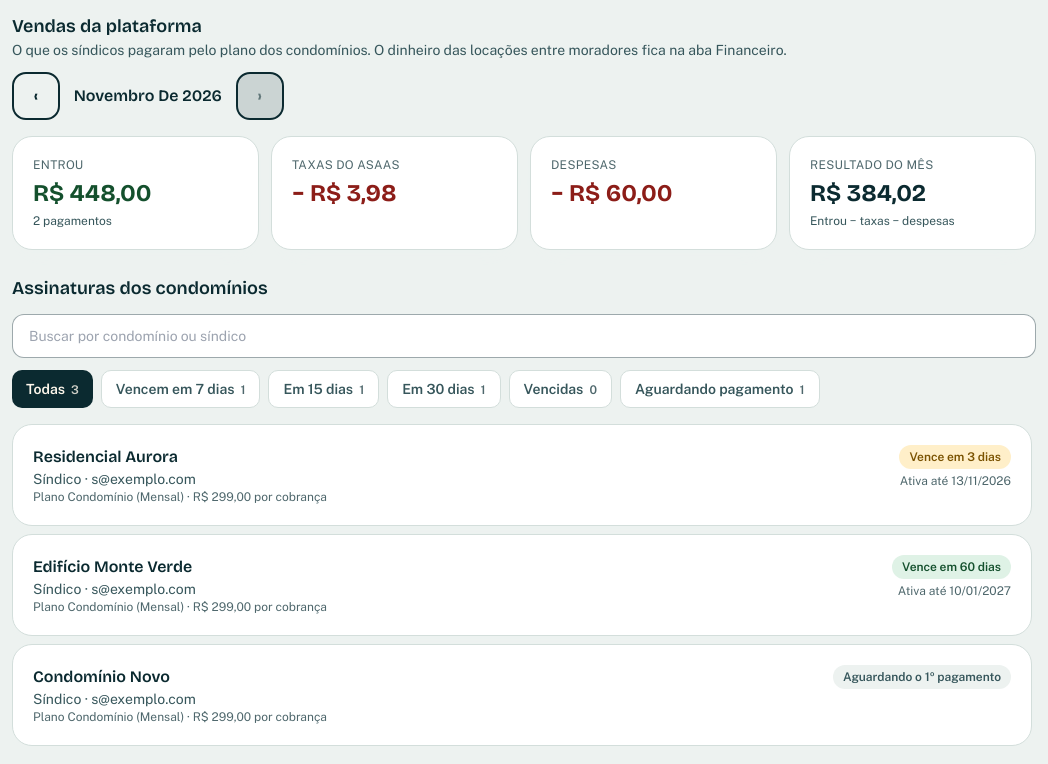
Test case: AbaPlataforma: assinaturas › os filtros mostram a contagem e escondem o que não combina
Expected: the element named "Lista de assinaturas" is shown, [12, 424, 1036, 746]
Click the button "Vencem em 7 dias1" at x=181, y=389, box [101, 370, 260, 408]
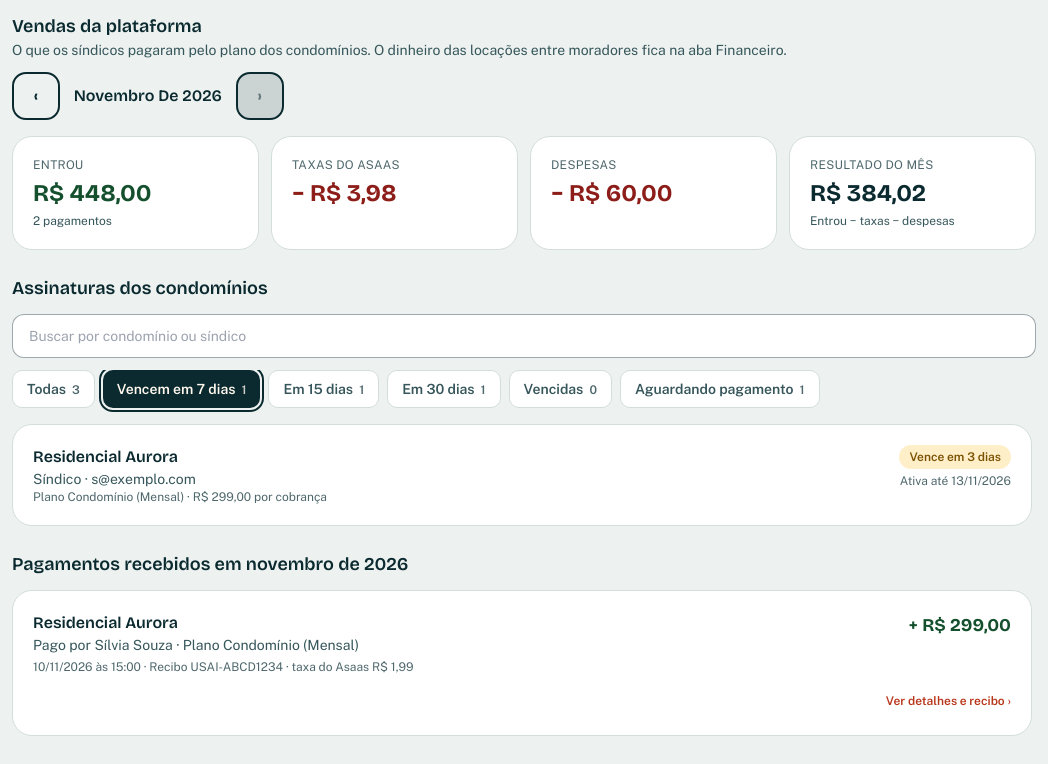
Expected: the text "Residencial Aurora" in the row of "Vence em 3 dias" is shown, [33, 447, 178, 466]
Expected: the text "Edifício Monte Verde" is gone
Expected: the text "Condomínio Novo" is gone
Click the button "Aguardando pagamento1" at x=720, y=389, box [620, 370, 820, 408]
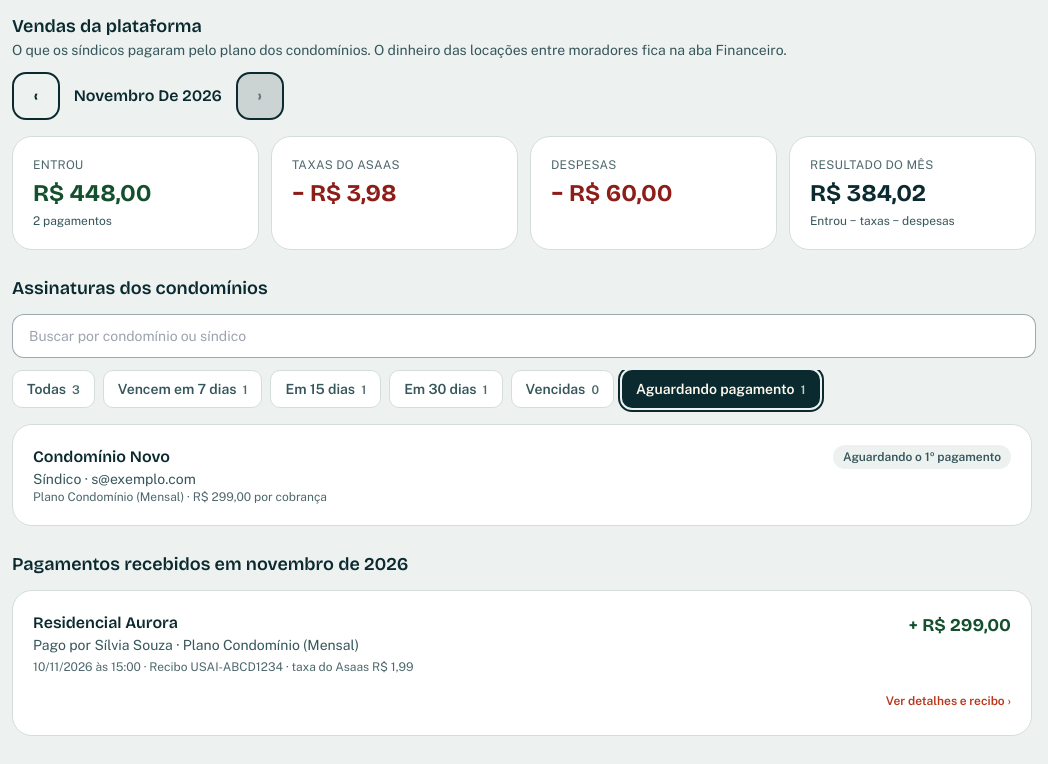
Expected: the text "Condomínio Novo" is shown, [33, 447, 170, 466]
